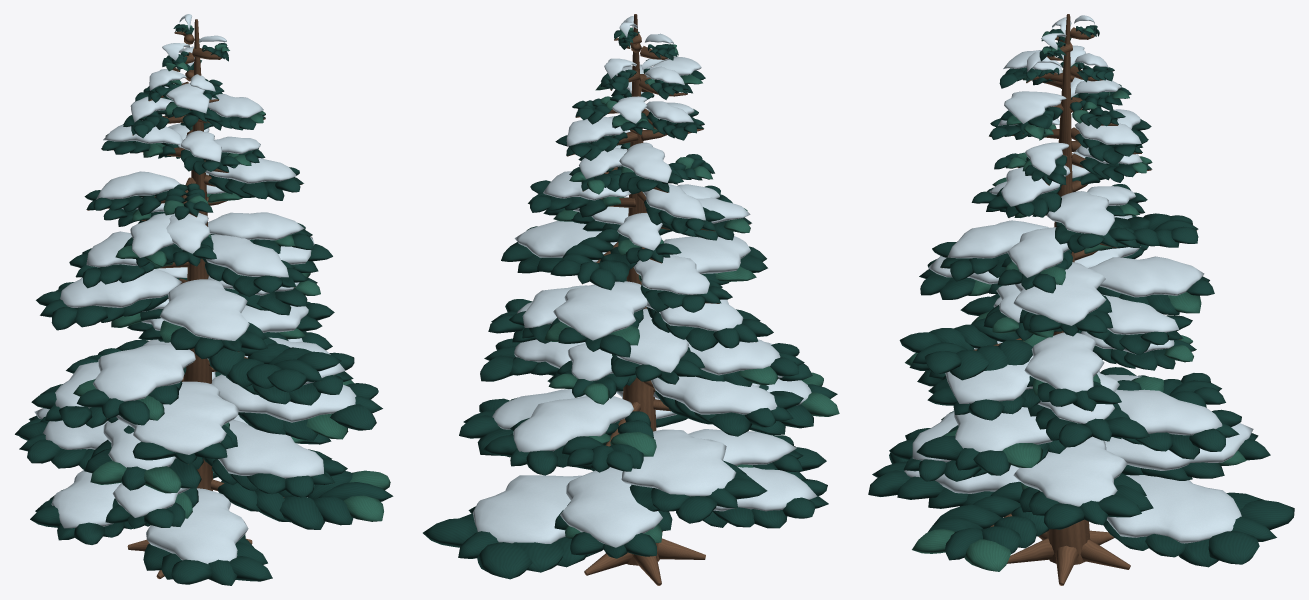
The model's file is pine_1.glb.
The picture shows the model from 3 angles, left to right: view 1: azimuth 30°, elevation 25°; view 2: azimuth 150°, elevation 25°; view 3: azimuth 270°, elevation 25°; orthographic projection. The views are drawn at different scales.
Parts seen in each view (by area): view 1: pine_1; view 2: pine_1; view 3: pine_1.
Part boxes in pixels (x1,y1,x2,y2): pine_1: [15, 14, 393, 585]; pine_1: [423, 14, 839, 585]; pine_1: [868, 14, 1294, 585].
Bounding box in the file's own units: 2.8 × 4.37 × 3.09.
Materials: 4 (4 with a texture image).
